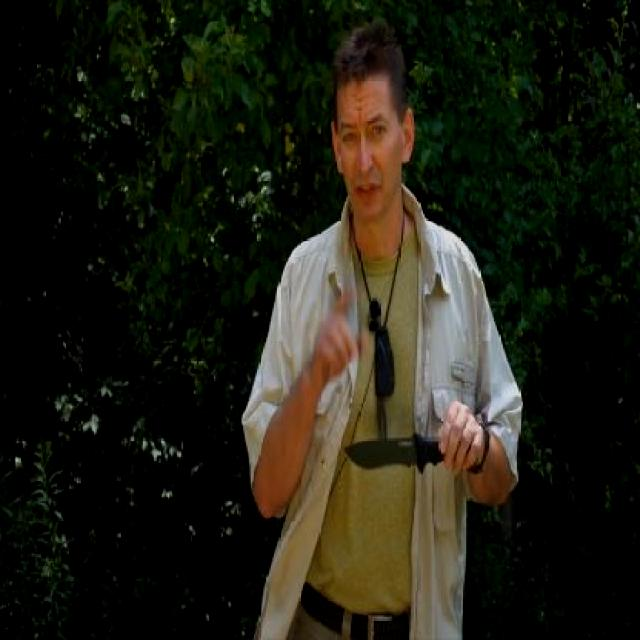knife: (338, 396, 476, 478)
